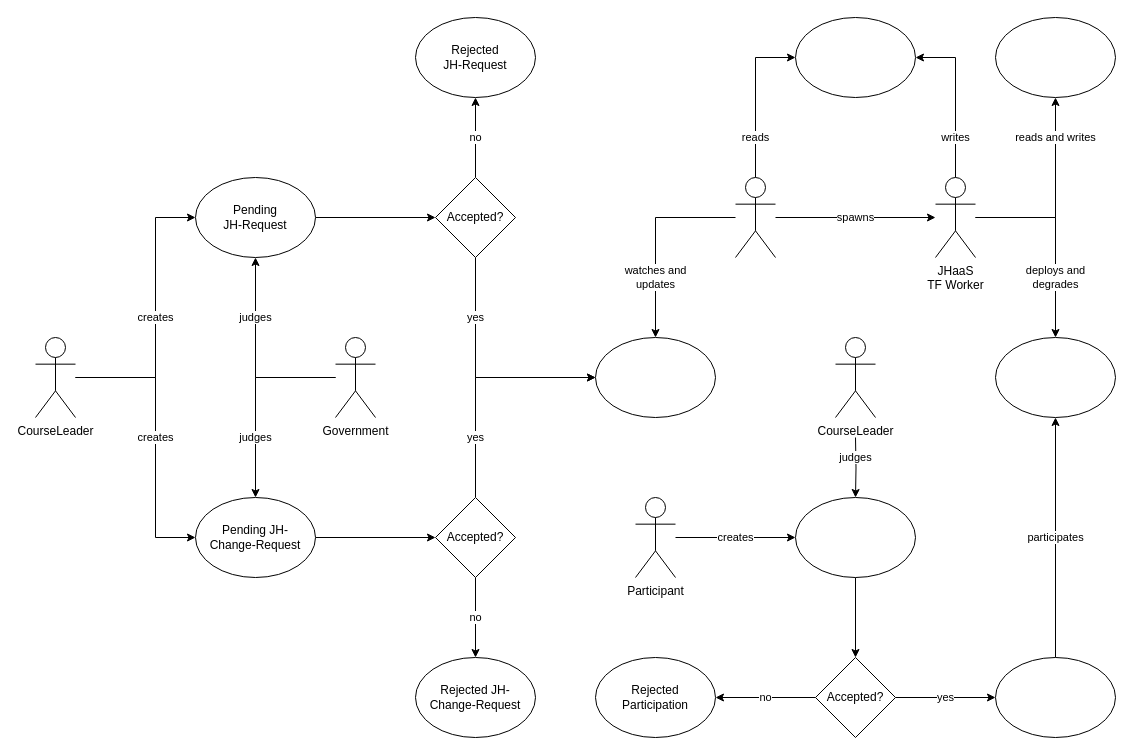
Image size: 1133x755. Some labels were removed from this diagram. The centre of each missing label's shape, as x and y in pixels:
"Accepted JH-Request" goes at (655,377).
"Accepted Participation" goes at (1055,697).
"Deployment Status" goes at (855,57).
"JH-Instance" goes at (1055,377).
"JHaaS TF Dispatcher" goes at (755,217).
"Pending Participation" goes at (855,537).
"TF State" goes at (1055,57).
